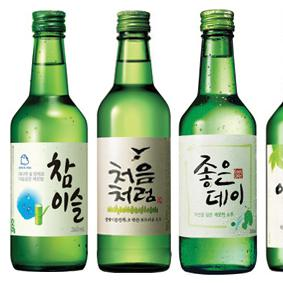soju: (8, 9, 260, 275)
